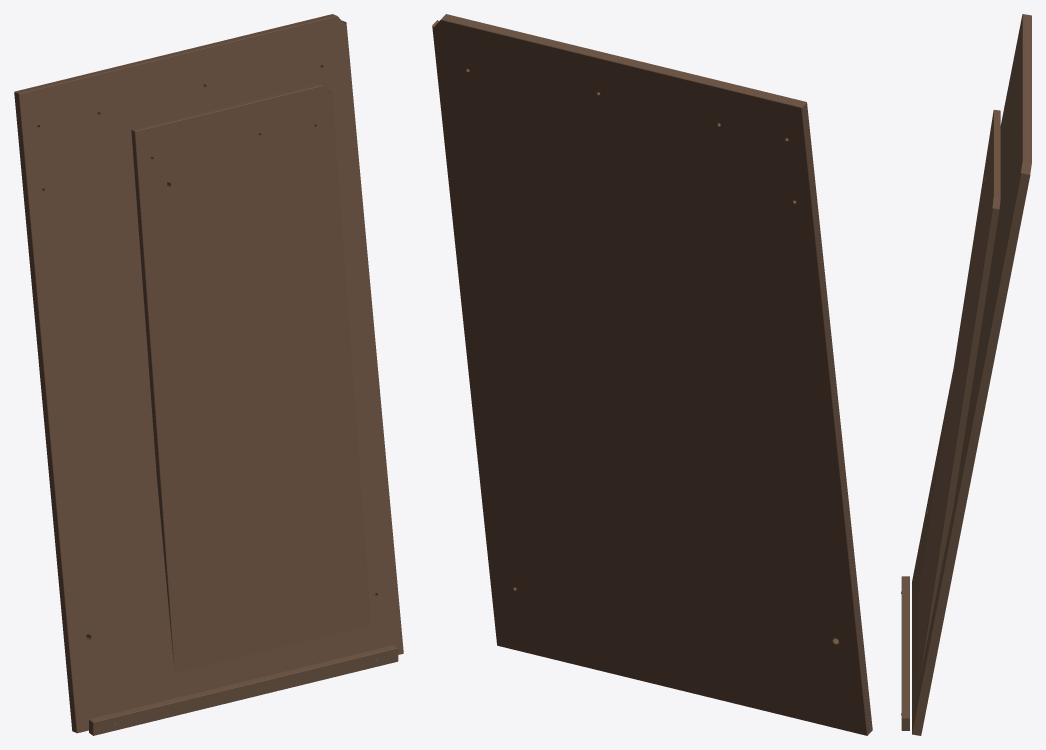
Rendered from hallway-leaning-panel-4cc5b5139730.glb.
The picture shows the model from 3 angles, left to right: view 1: azimuth 30°, elevation 25°; view 2: azimuth 150°, elevation 25°; view 3: azimuth 270°, elevation 25°; orthographic projection. The views are drawn at different scales.
Visible parts, largest first — view 1: wood; view 2: wood; view 3: wood.
Boxes of the visible parts, box(x1,y1,x2,y2) form: wood: box(14, 14, 403, 735); wood: box(432, 14, 872, 735); wood: box(901, 14, 1031, 735).
Bounding box in the file's own units: 0.6 × 1.05 × 0.2181.
